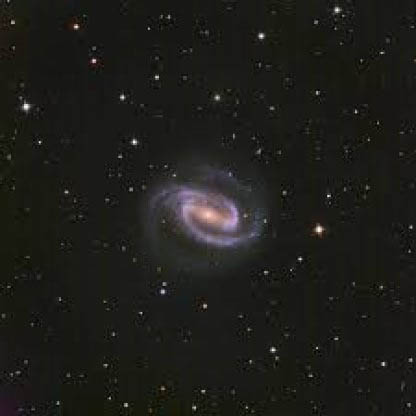NGC 1300: (131, 140, 288, 292)
